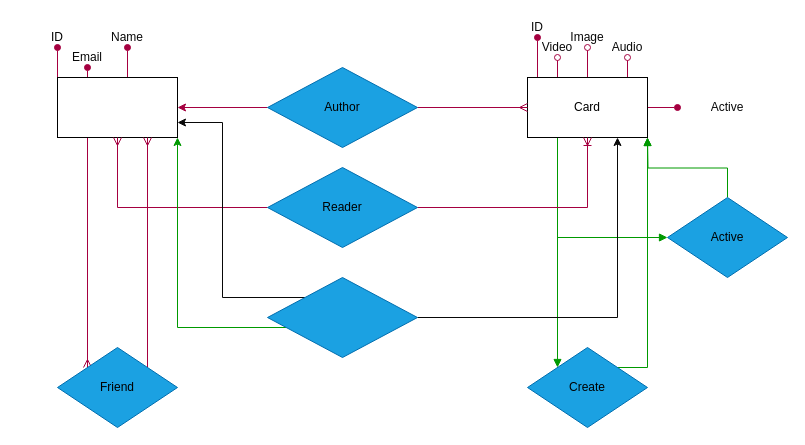
This 805x445 diagram has some shape labels left out. The shapes that lost their labels are listed below. From the top down, each one's centre as x and y in pixels, then its label:
At [117,107]: "User".
At [342,317]: "Send".
